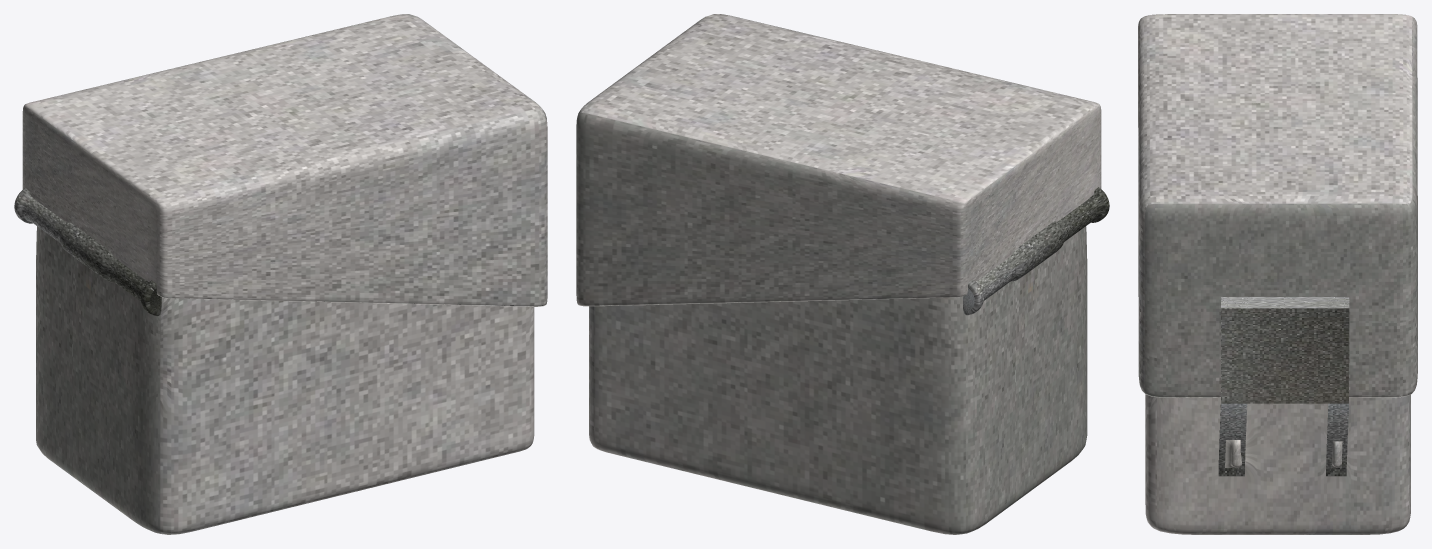
Rendered from AmmoBox.fbx.
The picture shows the model from 3 angles, left to right: view 1: azimuth 30°, elevation 25°; view 2: azimuth 150°, elevation 25°; view 3: azimuth 270°, elevation 25°; orthographic projection.
Visible parts, largest first — view 1: AmmoBox1; view 2: AmmoBox1; view 3: AmmoBox1.
Boxes of the visible parts, x1=… form: AmmoBox1: x1=14, y1=14, x2=547, y2=534; AmmoBox1: x1=576, y1=14, x2=1109, y2=534; AmmoBox1: x1=1138, y1=14, x2=1417, y2=534.
Size of the model in its own units: 4.44 by 3.57 by 2.65.
Materials: 2 (2 with a texture image).
